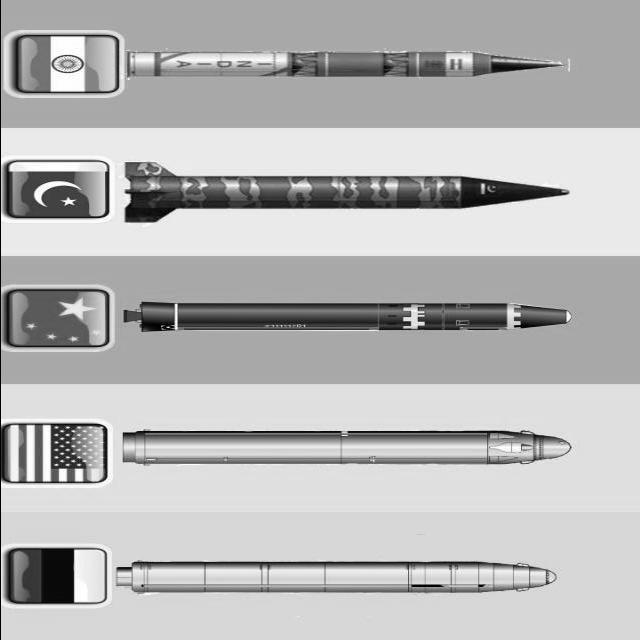missile: (115, 157, 577, 228), (105, 417, 579, 472), (102, 548, 567, 594), (123, 49, 569, 85), (117, 302, 583, 335)
